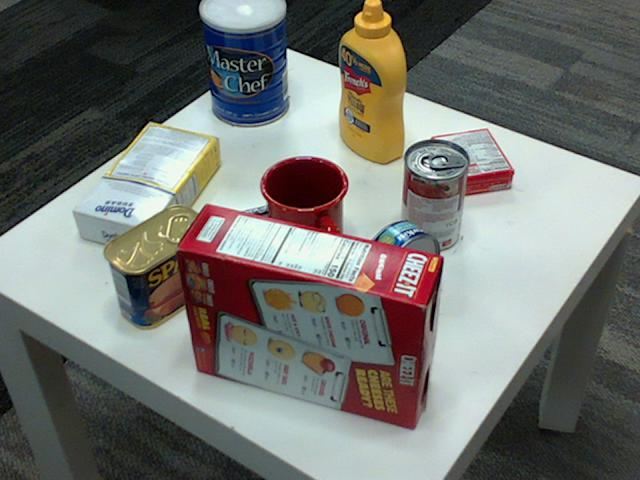cracker_box: (174, 203, 440, 426)
gelatin_box: (431, 128, 515, 195)
large_marker: (196, 197, 303, 241)
master_chef_can: (198, 0, 287, 126)
mug: (260, 152, 349, 260)
mustard_bottle: (339, 0, 405, 163)
potted_meat_can: (103, 204, 211, 329)
sugar_box: (73, 120, 221, 252)
tomato_soup_can: (400, 139, 468, 251)
tuna_fish_can: (357, 219, 440, 307)
